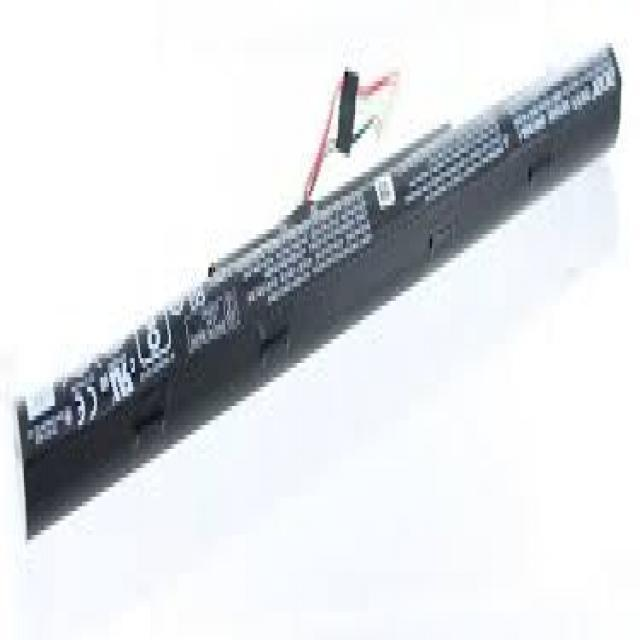battery: (13, 41, 621, 538)
